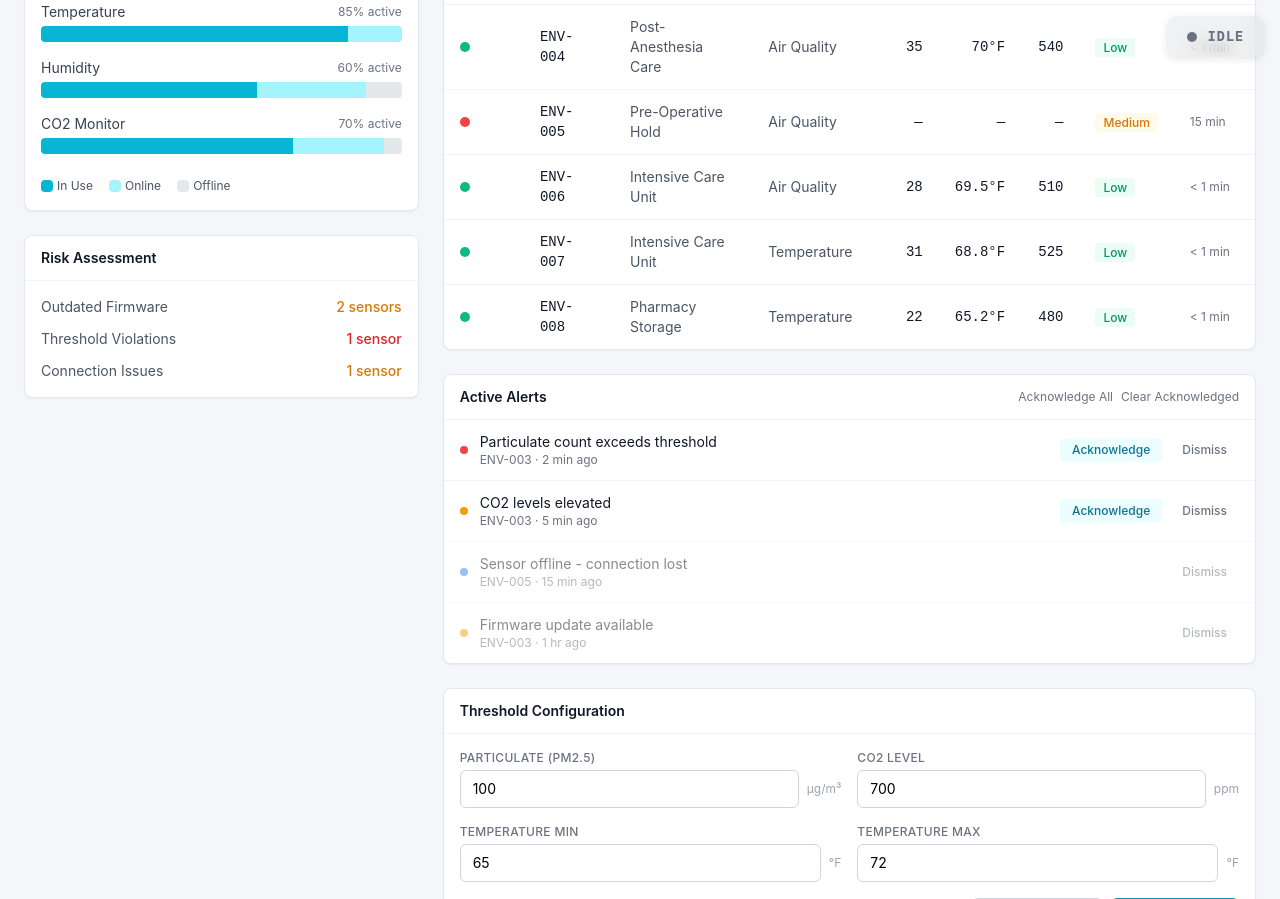
Environmental Monitoring Dashboard › Alerts › acknowledging alert changes its state
(page scrolled)
Click the button with test id "ack-alert-1": (1111, 450) [1060,438,1162,462]
(page scrolled)
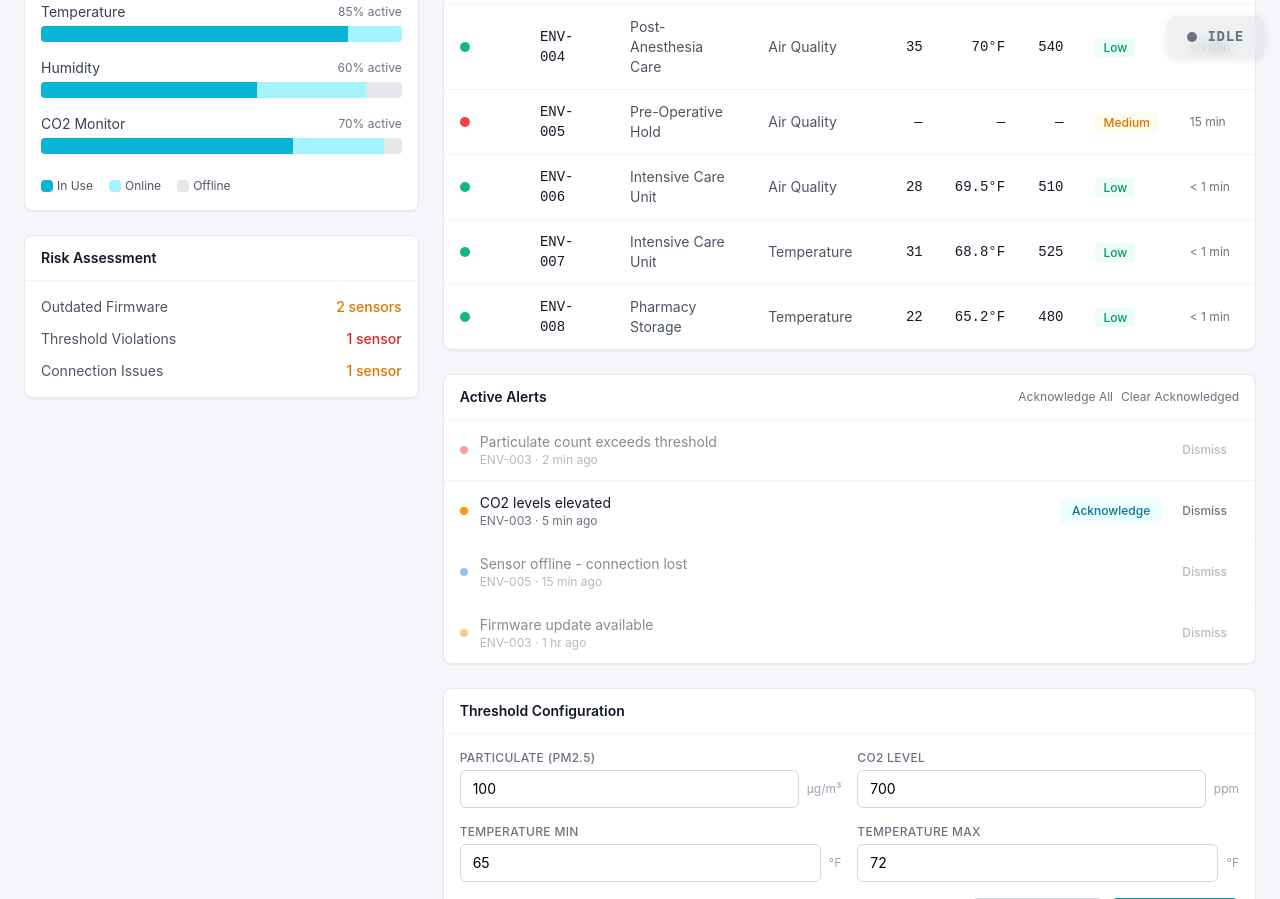
expect the button with test id "ack-alert-1" is gone: met
